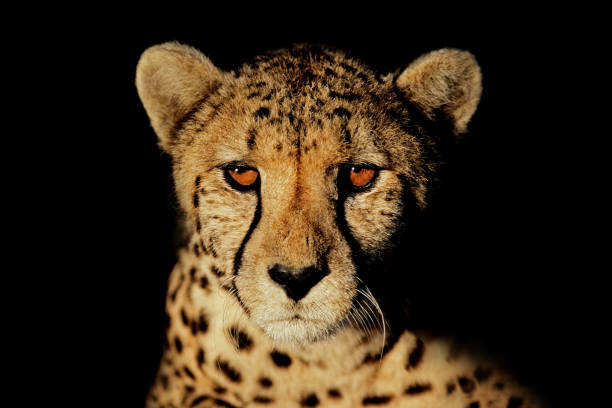cheetah: (100, 17, 509, 355)
